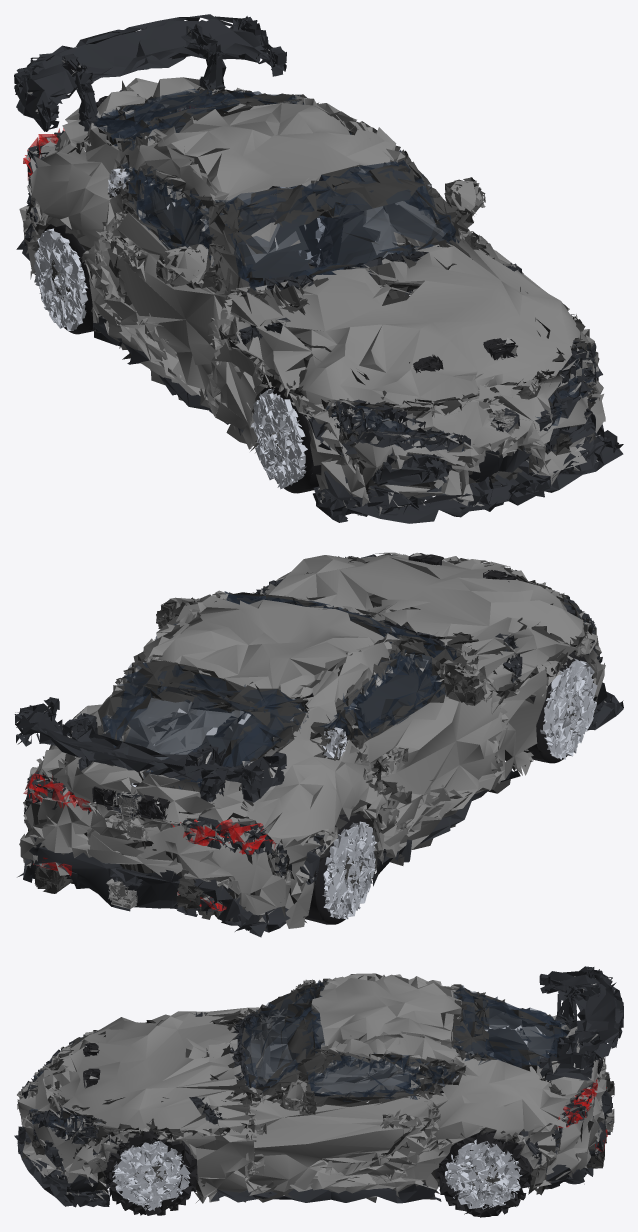
The model's file is toyota-supra-gt4.obj.
The picture shows the model from 3 angles, top to bottom: view 1: azimuth 30°, elevation 25°; view 2: azimuth 150°, elevation 25°; view 3: azimuth 270°, elevation 25°; orthographic projection. The views are drawn at different scales.
Parts seen in each view (by area): view 1: BODY, GLASS, WHEEL_RF, WHEEL_RR, WHEEL_LR; view 2: BODY, GLASS, WHEEL_RR, WHEEL_RF; view 3: BODY, GLASS, WHEEL_LR, WHEEL_LF.
Part boxes in pixels (box(x1,y1,x2,y2)): BODY: box(14, 14, 623, 523); GLASS: box(23, 88, 593, 451); WHEEL_RF: box(251, 386, 321, 493); WHEEL_RR: box(34, 224, 98, 334); WHEEL_LR: box(272, 175, 363, 273); BODY: box(14, 552, 623, 937); GLASS: box(23, 591, 596, 911); WHEEL_RR: box(305, 812, 377, 924); WHEEL_RF: box(527, 651, 597, 763); BODY: box(14, 966, 623, 1207); GLASS: box(30, 980, 607, 1151); WHEEL_LR: box(435, 1130, 531, 1217); WHEEL_LF: box(103, 1129, 198, 1215).
Bounding box in the file's own units: 2.05 × 1.32 × 4.45.
